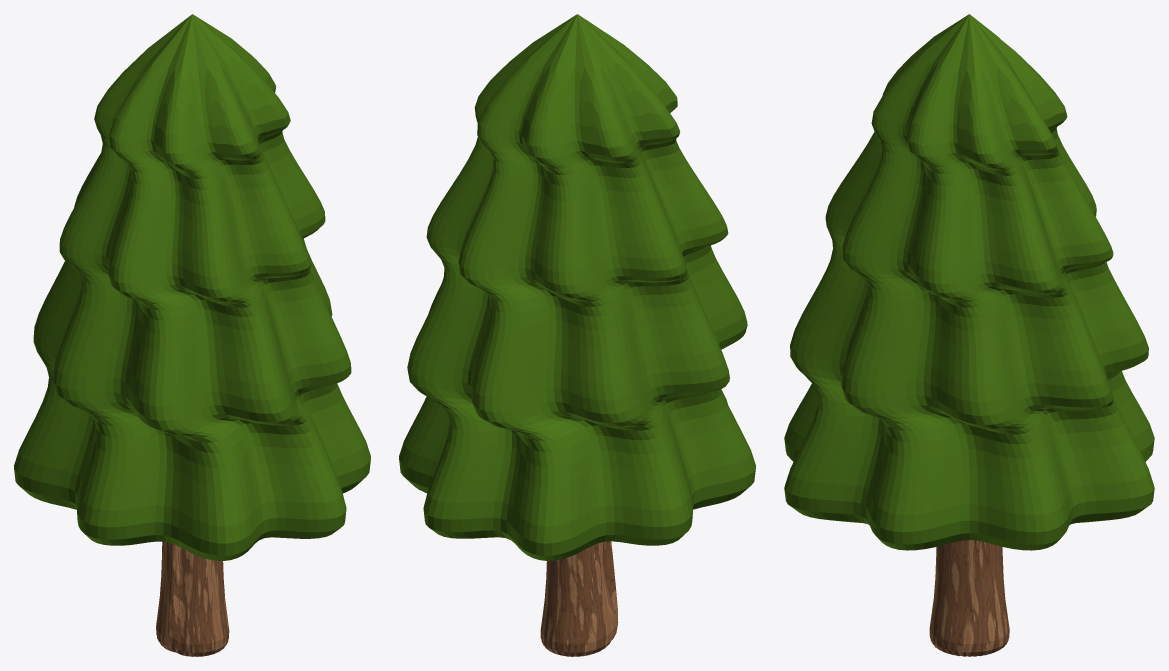
Rendered from Pino.fbx.
3 views of the same model, side by side, from view 1: azimuth 30°, elevation 25°; view 2: azimuth 150°, elevation 25°; view 3: azimuth 270°, elevation 25° (orthographic).
Visible parts, largest first — view 1: Pino; view 2: Pino; view 3: Pino.
Part boxes in pixels (box(x1,y1,x2,y2)): Pino: box(14, 14, 370, 656); Pino: box(399, 14, 755, 656); Pino: box(784, 14, 1154, 656).
Size of the model in its own units: 912 by 1948 by 1027.
